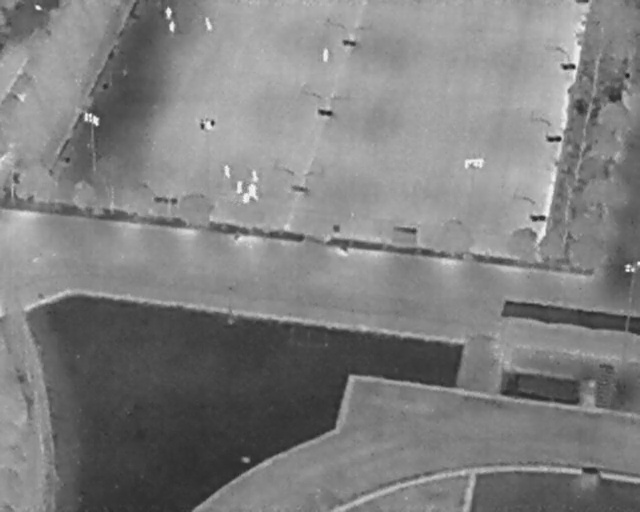Person: (248, 183, 260, 200), (203, 16, 214, 32), (322, 47, 330, 63), (236, 179, 243, 194), (224, 165, 231, 179), (169, 21, 176, 33), (243, 192, 250, 204), (166, 6, 172, 19), (251, 170, 258, 181)
